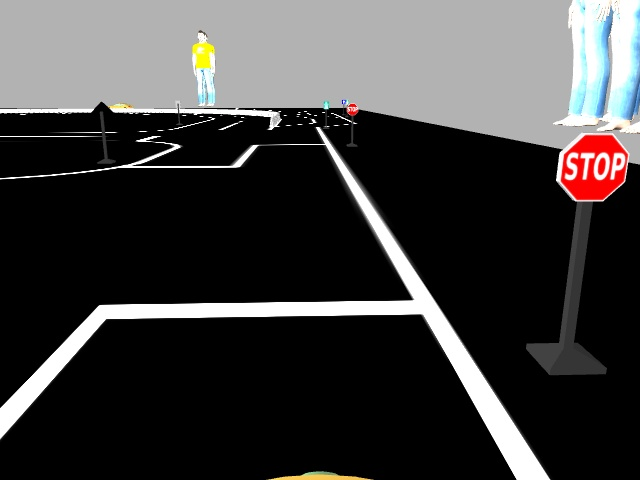Stop: (557, 133, 628, 200), (344, 103, 358, 115)
